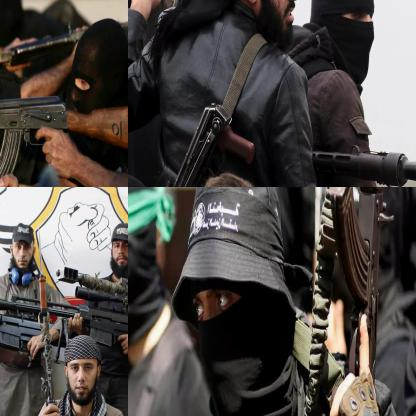rifle: (331, 187, 398, 379), (0, 88, 127, 186), (152, 101, 256, 186), (51, 262, 127, 354), (31, 272, 75, 415), (0, 293, 73, 358), (312, 145, 415, 186)
